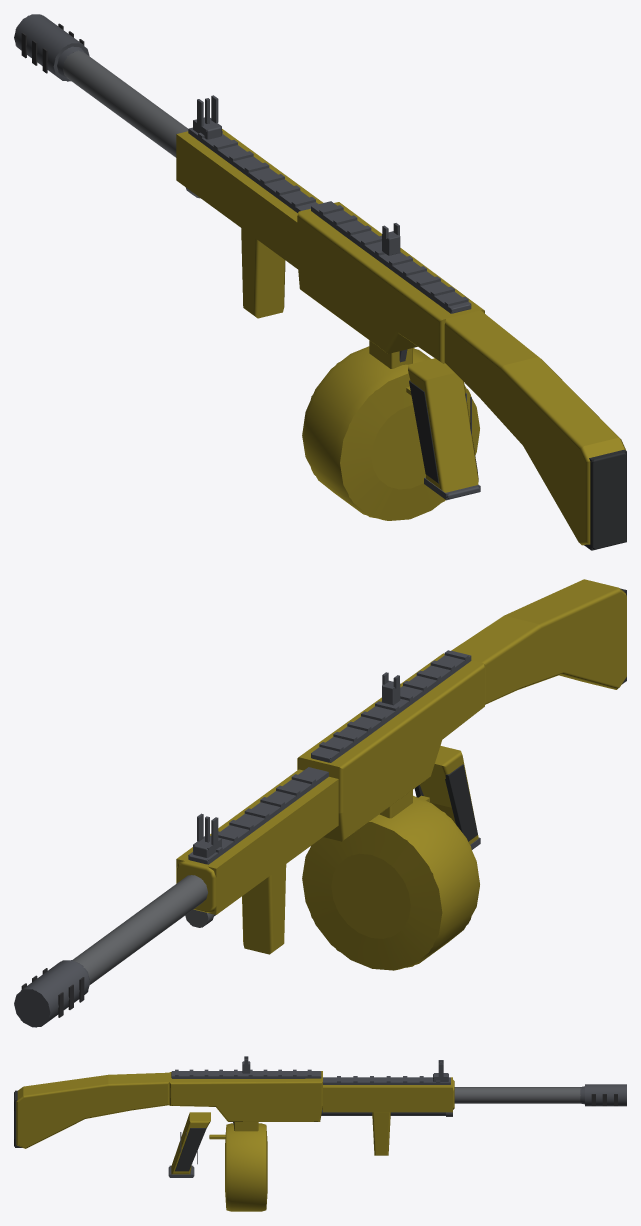
Rendered from g_cyclone.glb.
3 renders of one model, top to bottom at view 1: azimuth 30°, elevation 25°; view 2: azimuth 150°, elevation 25°; view 3: azimuth 270°, elevation 25°, orthographic. The views are drawn at different scales.
Parts seen in each view (by area): view 1: L0, L1; view 2: L0, L1; view 3: L0, L1.
Part boxes in pixels (<box>): L0: <box>14,14,626,549</box>; L1: <box>15,15,626,550</box>; L0: <box>14,579,626,1027</box>; L1: <box>14,589,626,1027</box>; L0: <box>14,1056,626,1210</box>; L1: <box>15,1060,626,1211</box>.
Bounding box in the file's own units: 0.15 × 0.2795 × 1.04.
